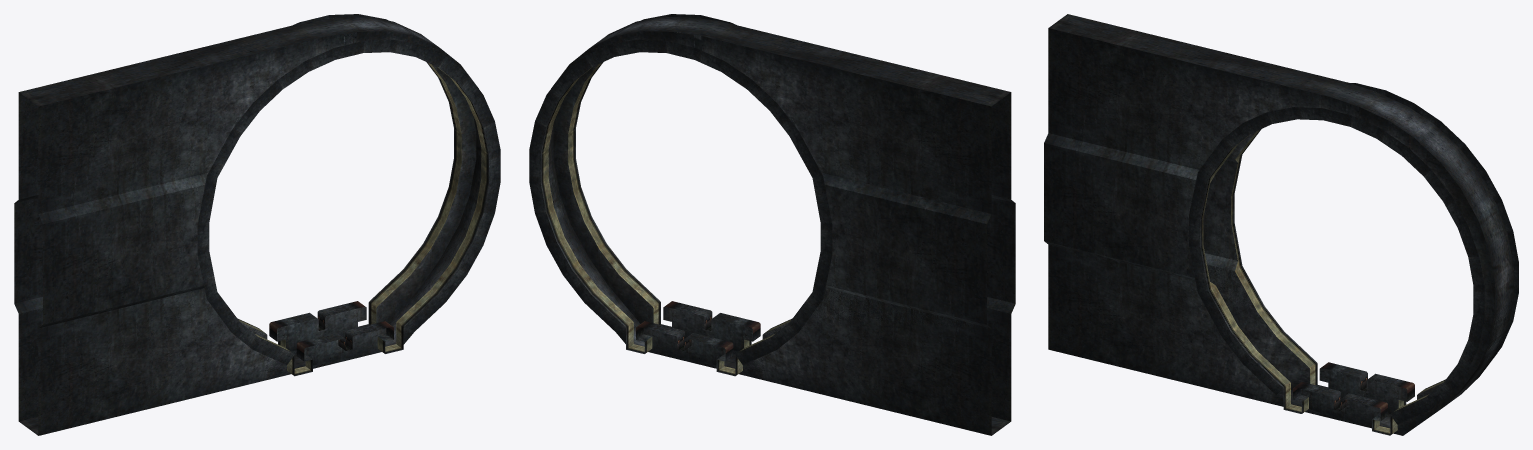
The model's file is traintunnel_door_frame.dae.
3 views of the same model, side by side, from view 1: azimuth 30°, elevation 25°; view 2: azimuth 150°, elevation 25°; view 3: azimuth 330°, elevation 25° (orthographic). The views are drawn at different scales.
Visible parts, largest first — view 1: door_frame; view 2: door_frame; view 3: door_frame.
Boxes of the visible parts, <box> form: door_frame: <box>14,14,500,435</box>; door_frame: <box>529,14,1015,435</box>; door_frame: <box>1044,14,1518,435</box>.
Bounding box in the file's own units: 7.55 × 5.19 × 1.
